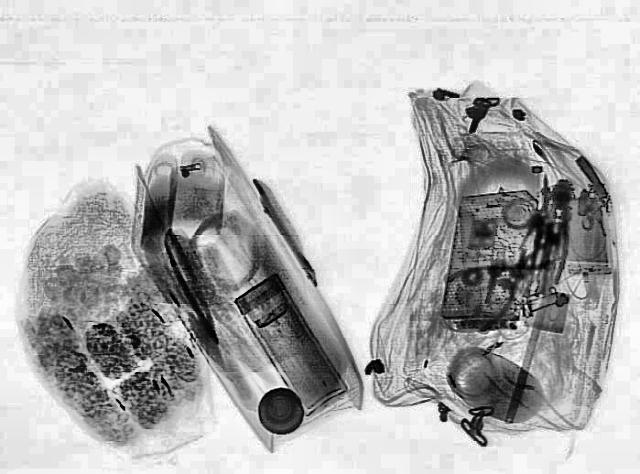Pliers: (420, 234, 566, 334)
